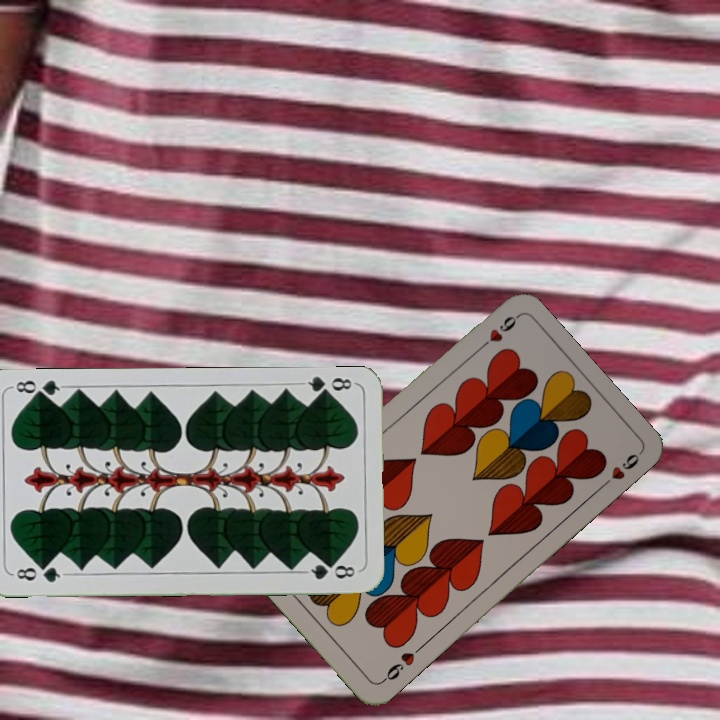G8: (298, 373, 357, 401), (9, 561, 68, 585)
H9: (471, 311, 520, 356), (377, 642, 425, 686)
